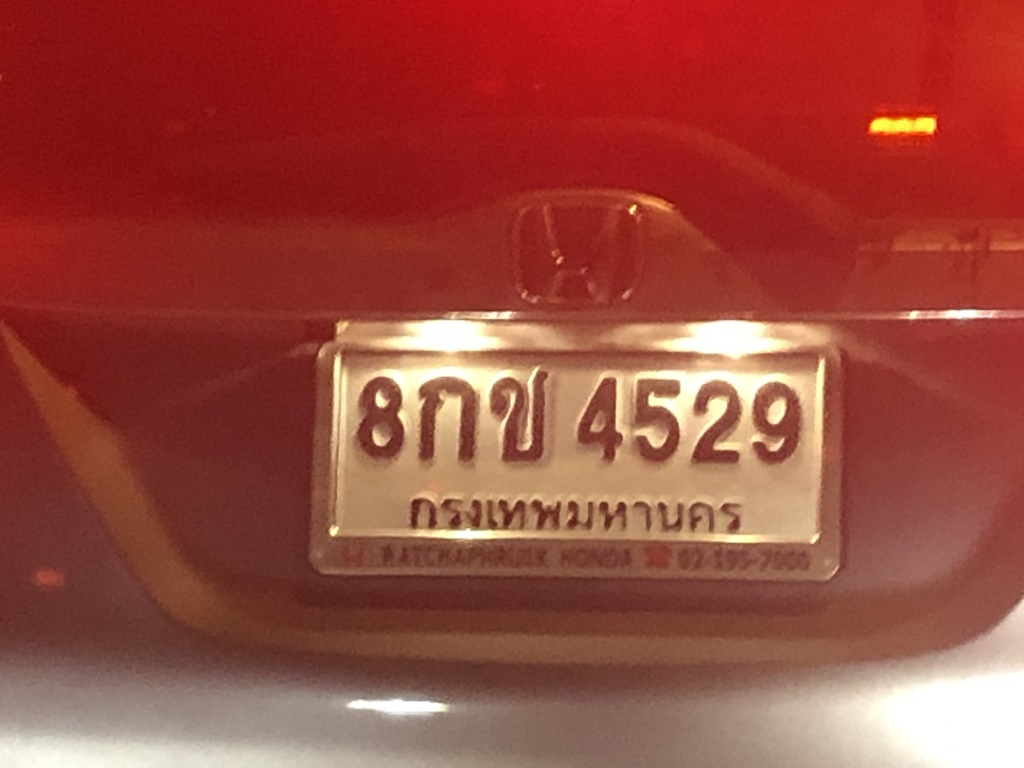eight: (337, 368, 419, 468)
four: (571, 367, 625, 470)
plate: (322, 336, 828, 555)
